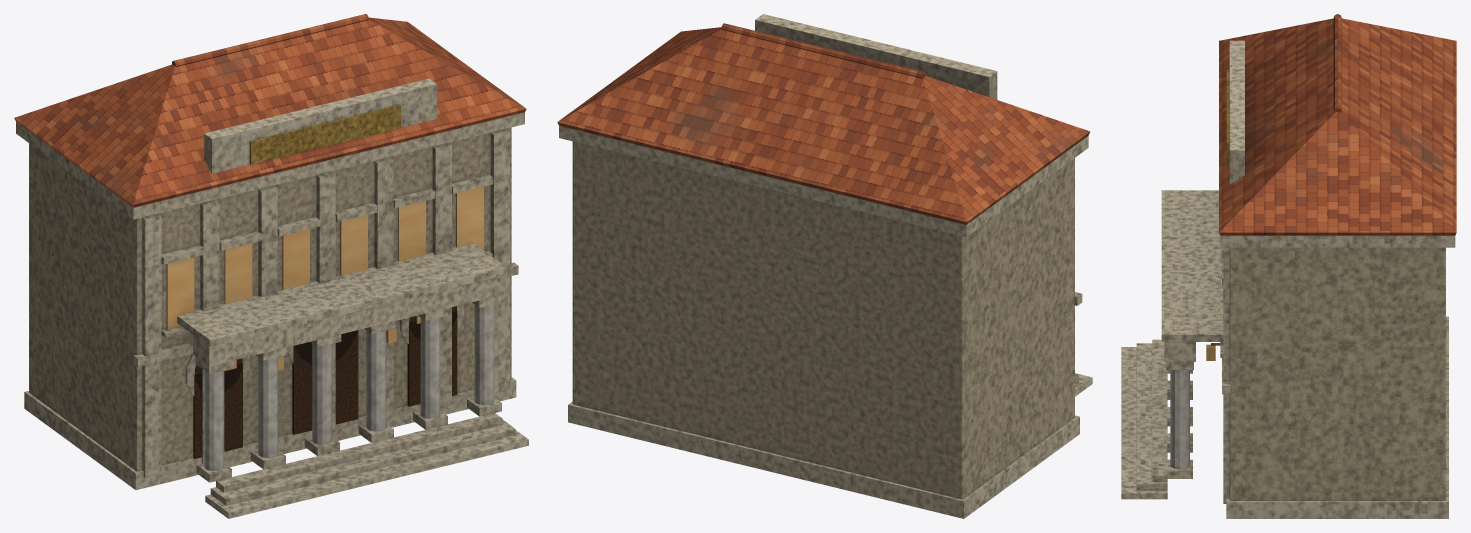
Rendered from siracusa_theatre.glb.
3 views of the same model, side by side, from view 1: azimuth 30°, elevation 25°; view 2: azimuth 150°, elevation 25°; view 3: azimuth 270°, elevation 25° (orthographic). The views are drawn at different scales.
Parts seen in each view (by area): view 1: siracusa_theatre; view 2: siracusa_theatre; view 3: siracusa_theatre.
Part boxes in pixels (bbox=[...]): siracusa_theatre: bbox=[14, 14, 528, 518]; siracusa_theatre: bbox=[557, 14, 1092, 518]; siracusa_theatre: bbox=[1121, 14, 1456, 518].
Bounding box in the file's own units: 14.69 × 13.03 × 10.84.
Materials: 7 (7 with a texture image).
